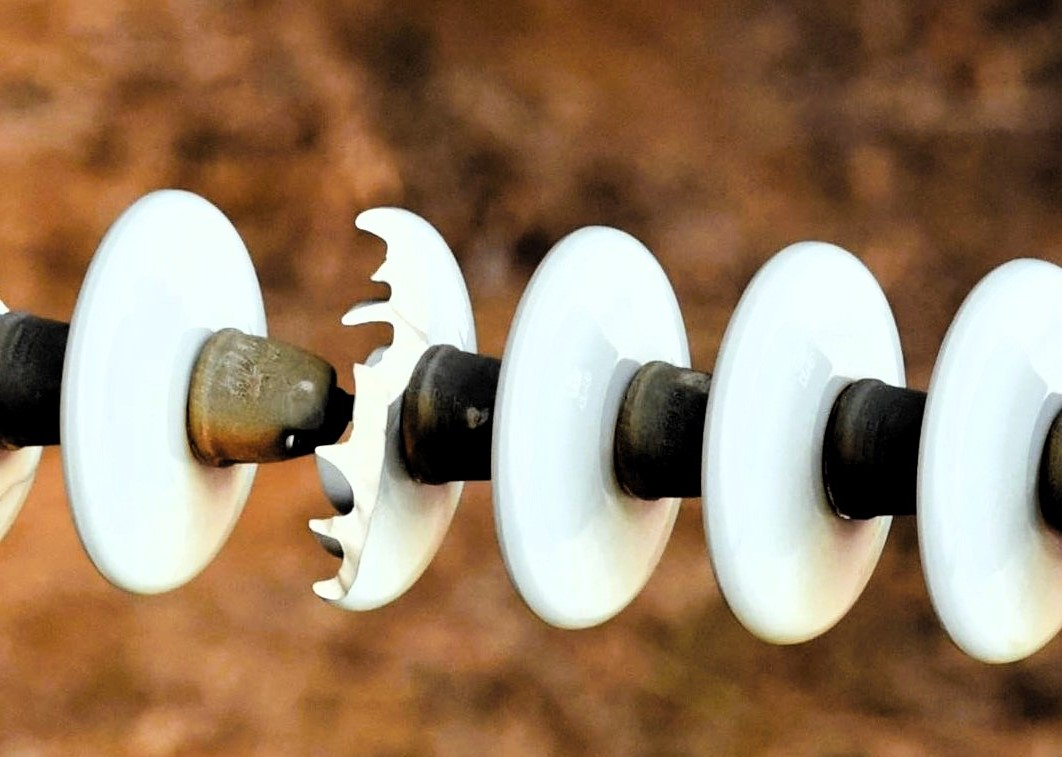insulator breakage: (302, 185, 469, 632)
